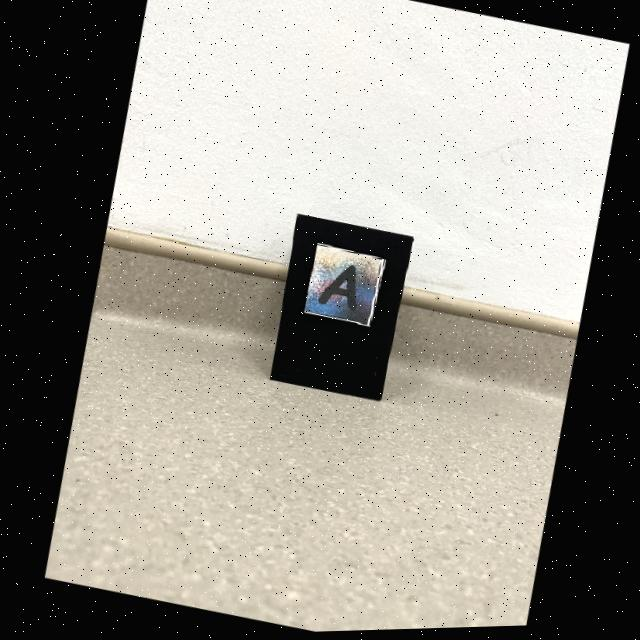A: (314, 267, 352, 313)
